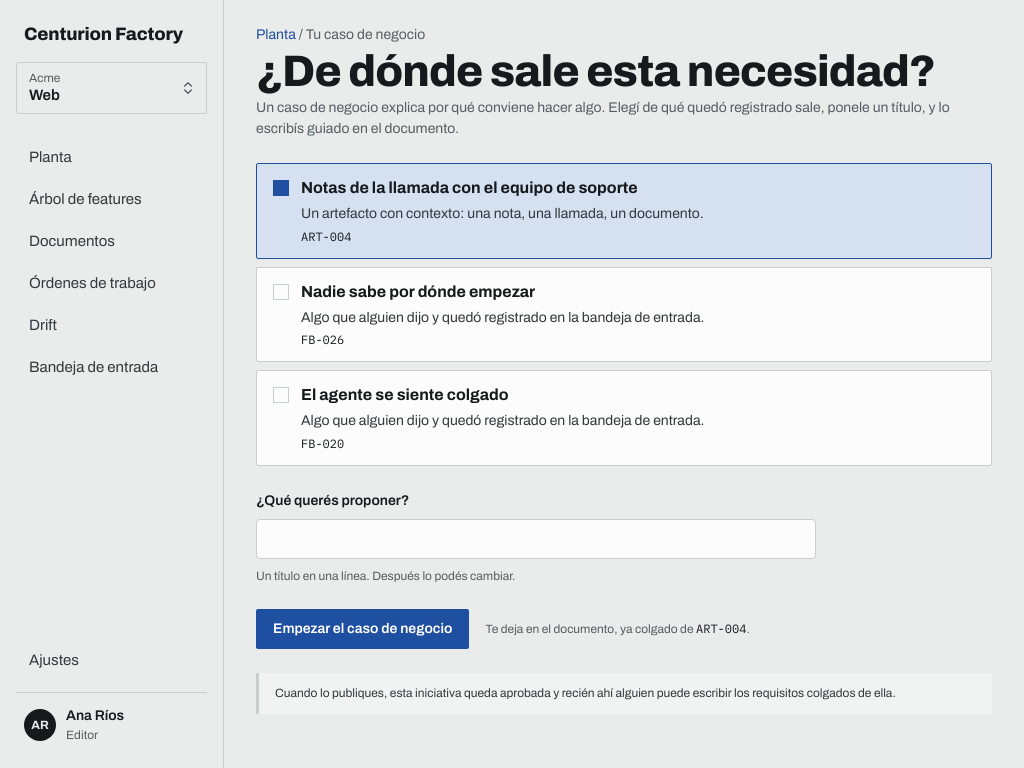
ConstruirNegocio — with records to start from (WO-562, SDD-053) › does not create anything without a title, and says what is missing
Click the button "Empezar el caso de negocio". click: (363, 629)
box: 256,609 -> 469,649
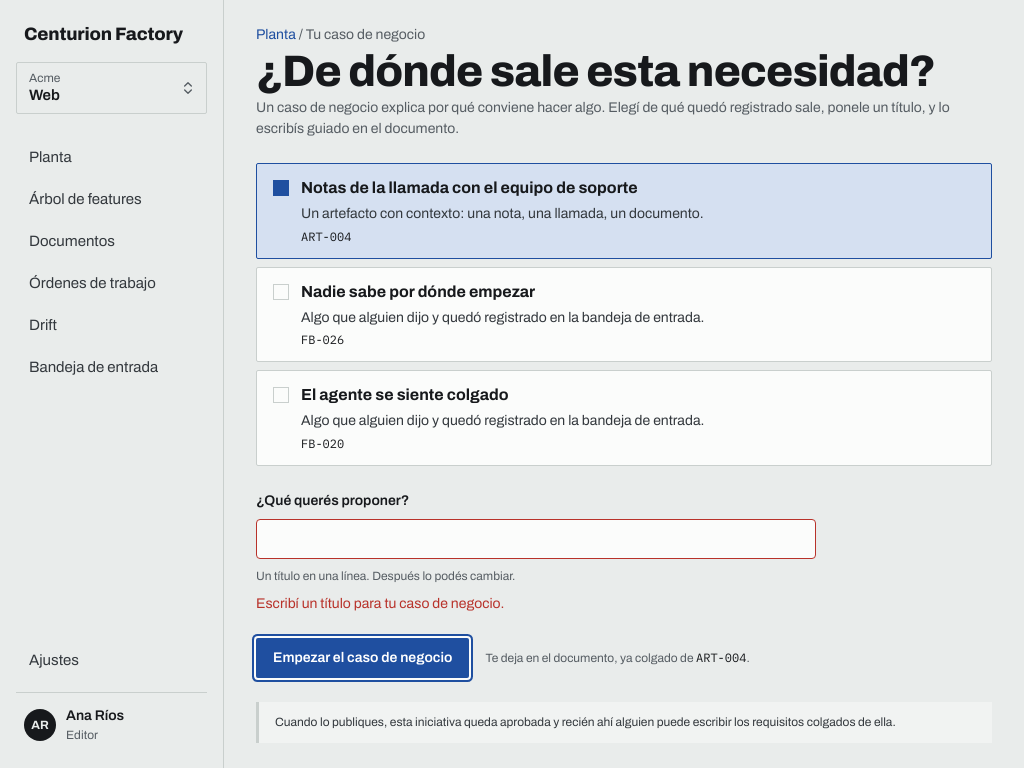
Expected: the message shows "título", 256,596 -> 504,611
